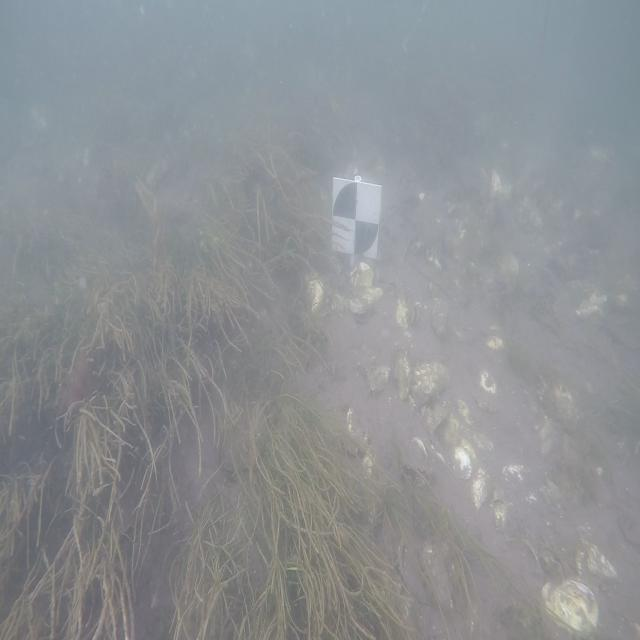Oyster- Indeterminate: (541, 580, 599, 633), (478, 371, 496, 412), (346, 409, 366, 442), (502, 464, 526, 482)
Oyster-Closed: (405, 362, 449, 407), (575, 540, 618, 580), (349, 287, 382, 322), (454, 440, 476, 479), (396, 296, 418, 331), (471, 469, 489, 509), (350, 262, 374, 291), (492, 500, 508, 531), (308, 280, 324, 310), (411, 436, 428, 458), (362, 447, 374, 476), (486, 333, 504, 351)
Oyster-Open: (368, 367, 390, 391)
